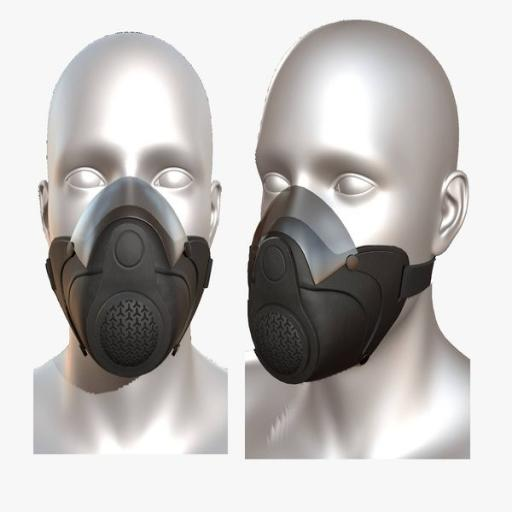mask: (35, 174, 229, 382), (241, 179, 406, 380)
